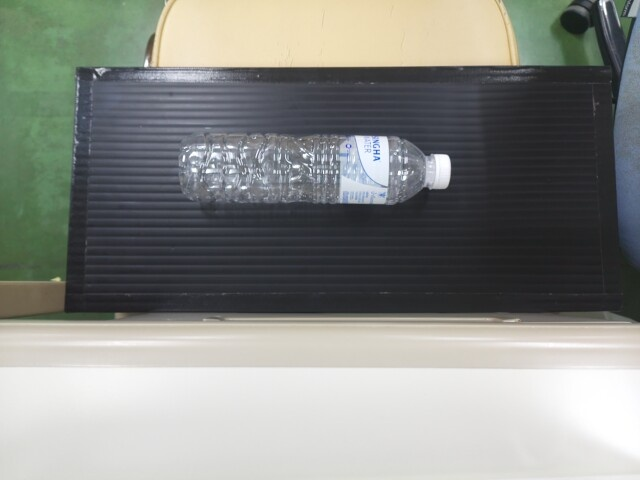plastic_bottle: (176, 131, 451, 209)
